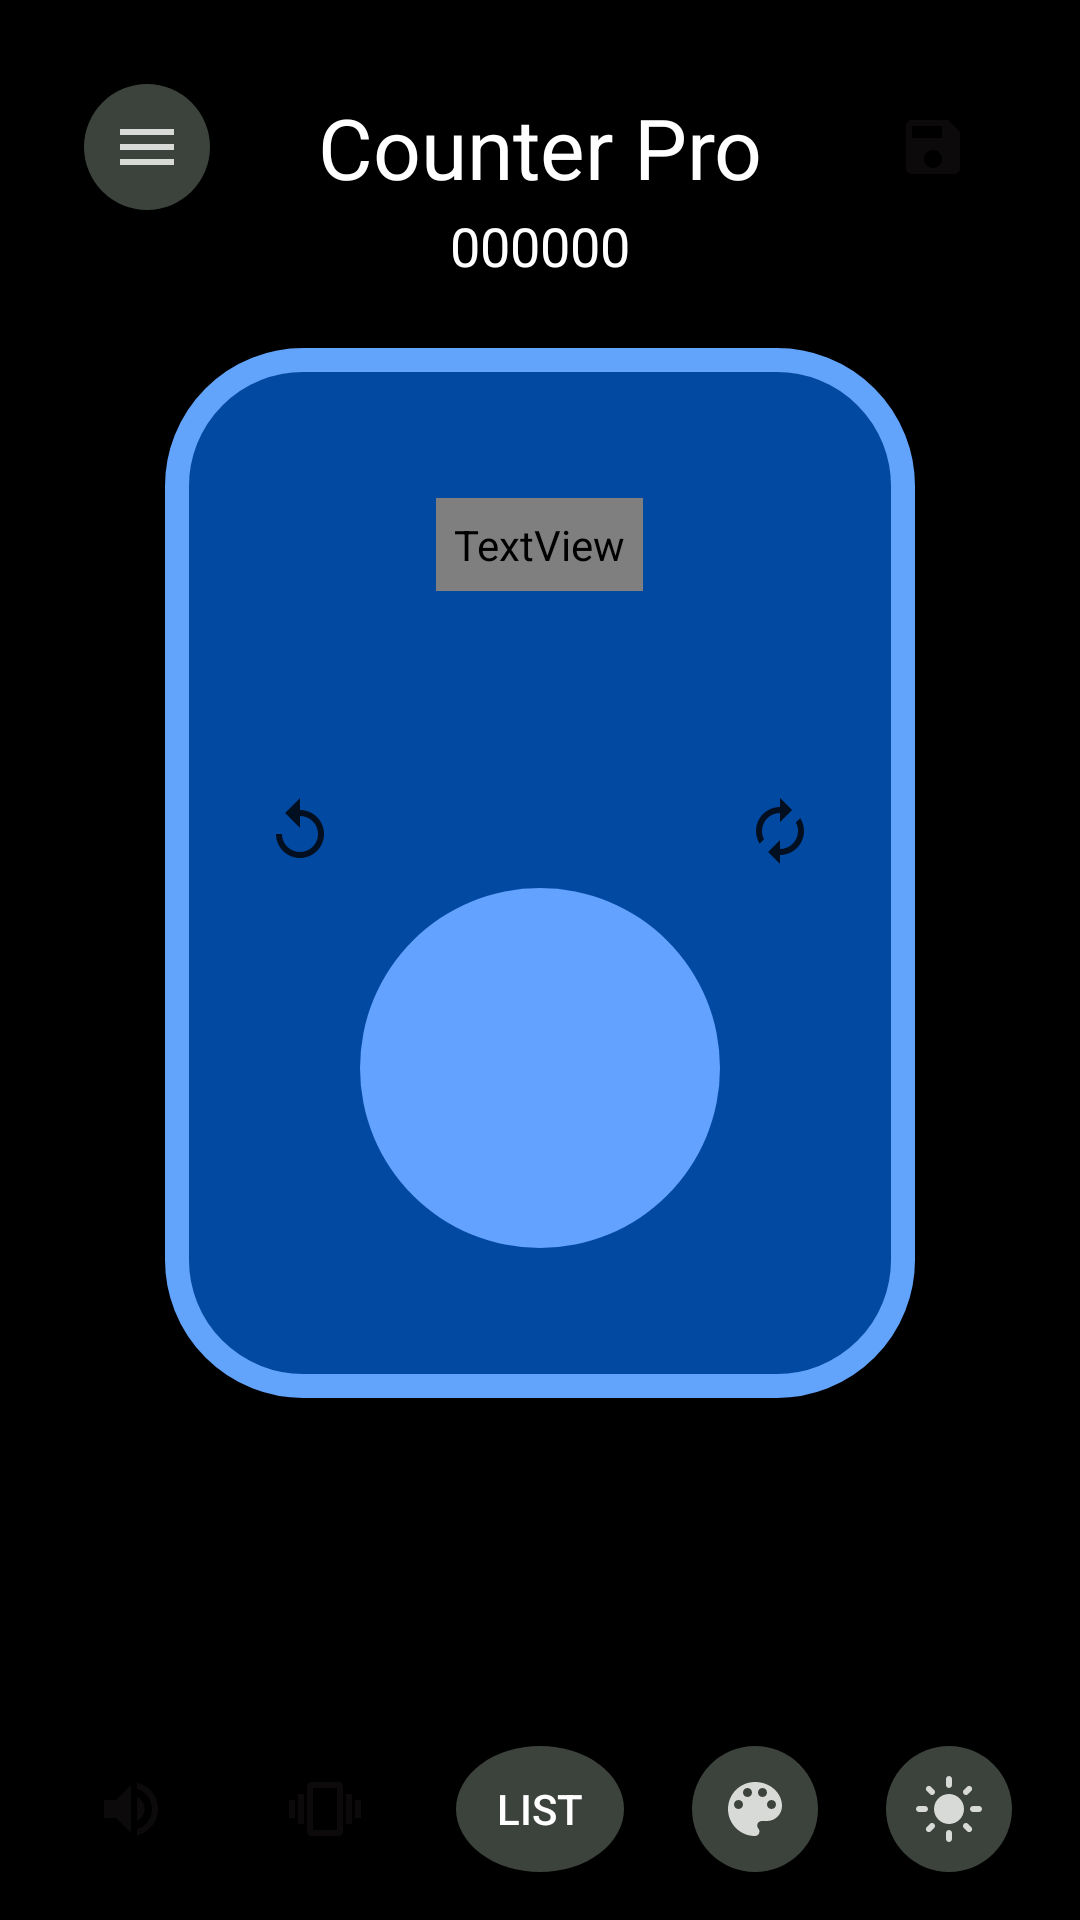

Icon bounding boxes for this 1080px x 1920px phone screenshot, format (x1, y1, x2, y2):
count back: (276, 798, 324, 858)
menu: (84, 84, 210, 210)
mode: (886, 1746, 1012, 1872)
restart: (756, 798, 804, 864)
theme: (692, 1746, 818, 1872)
